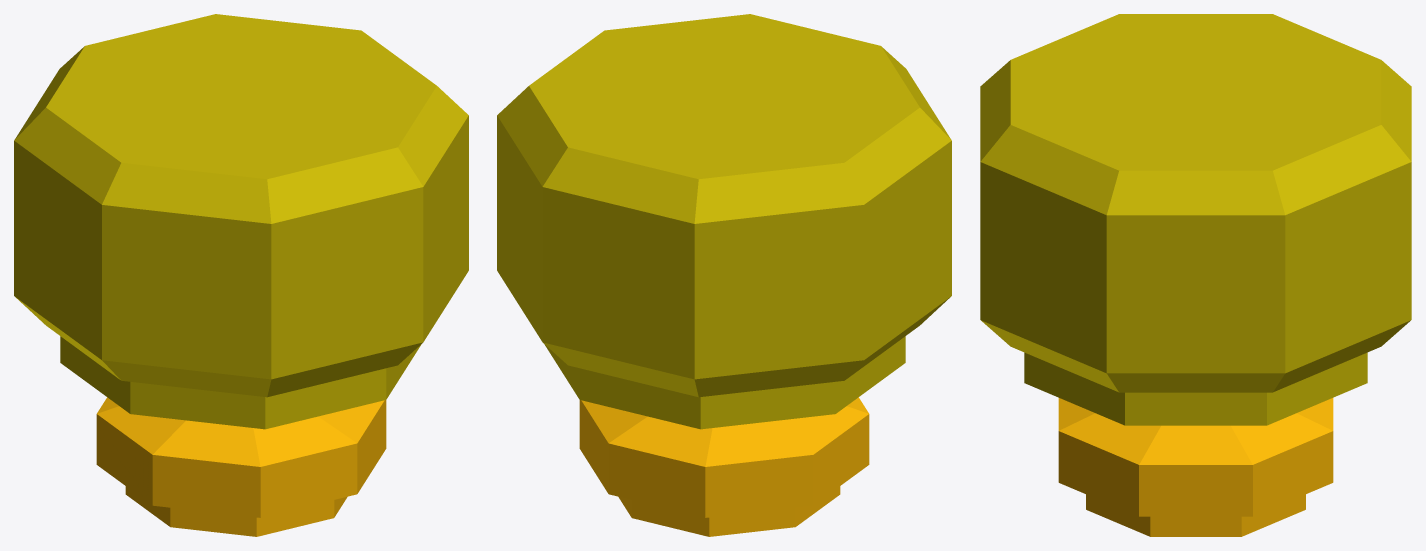
File: mpe_rps_meter.dae
3 renders of one model, left to right at view 1: azimuth 30°, elevation 25°; view 2: azimuth 150°, elevation 25°; view 3: azimuth 270°, elevation 25°, orthographic.
Visible parts, largest first — view 1: rps_meter; view 2: rps_meter; view 3: rps_meter.
Boxes of the visible parts, x1,y1,x2,y2 form: rps_meter: [14, 14, 468, 536]; rps_meter: [497, 14, 951, 536]; rps_meter: [980, 14, 1411, 536].
Bounding box in the file's own units: 0.2453 × 0.2453 × 0.25.
